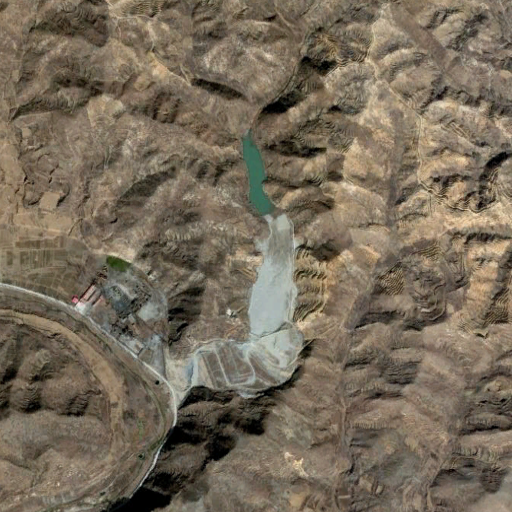tp: (199, 123, 301, 393)
